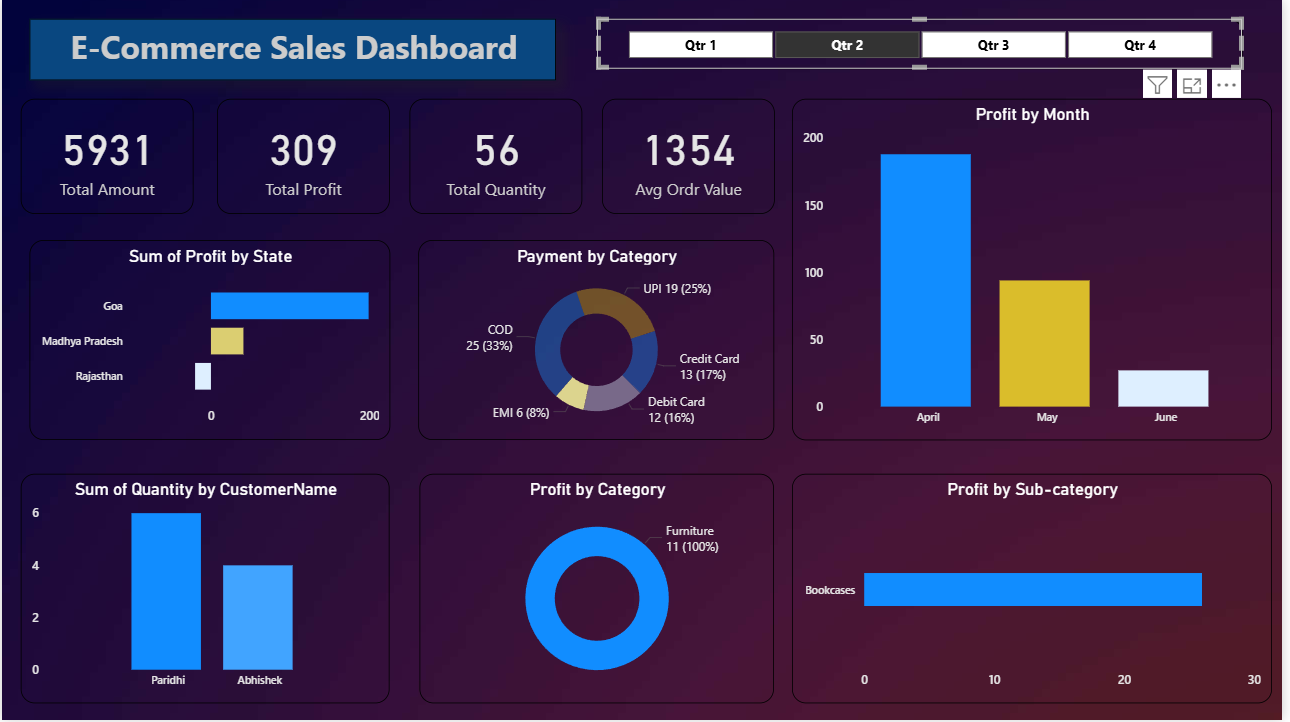

The dashboard page shown, as its layout file describes it:
{"tool":"powerbi","page":{"name":"Page 1","canvas":[1280,720],"ordinal":0},"visuals":[{"type":"textbox","box":[27.4,19,526.2,61.9],"z":0},{"type":"columnChart","title":"Profit by Month","fields":{"Category":["Orders.Order Date.Variation.Date Hierarchy.Month"],"Y":["Sum(Details.Profit)"]},"box":[790.5,98.8,479.8,341.7],"z":1000},{"type":"clusteredBarChart","title":"Profit by Sub-category","fields":{"Y":["Sum(Details.Profit)"],"Category":["Details.Sub-Category"]},"box":[790.5,473.8,479.8,229.8],"z":2000},{"type":"donutChart","title":"Profit by Category","fields":{"Category":["Details.Category"],"Y":["Sum(Details.Quantity)"]},"box":[417.9,473.8,354.8,229.8],"z":2001},{"type":"donutChart","title":"Payment by Category","fields":{"Y":["CountNonNull(Details.Category)"],"Category":["Details.PaymentMode"]},"box":[416.7,240.5,356,200],"z":2002},{"type":"card","fields":{"Values":["Sum(Details.Amount)"]},"box":[19,98.8,172.6,115.5],"z":2003},{"type":"card","fields":{"Values":["Sum(Details.Profit)"]},"box":[215.5,98.8,172.6,115.5],"z":2004},{"type":"card","fields":{"Values":["Sum(Details.Quantity)"]},"box":[407.1,98.8,172.6,115.5],"z":2005},{"type":"card","fields":{"Values":["Sum(Details.Avg Ordr Value)"]},"box":[600,98.8,172.6,115.5],"z":2006},{"type":"barChart","fields":{"Category":["Orders.State"],"Y":["Sum(Details.Profit)"]},"box":[27.4,240.5,360.7,200],"z":2007},{"type":"columnChart","fields":{"Y":["Sum(Details.Quantity)"],"Category":["Orders.CustomerName"]},"box":[19,473.8,369,229.8],"z":2008},{"type":"slicer","fields":{"Values":["Orders.Order Date.Variation.Date Hierarchy.Quarter"]},"box":[595.2,19,645.2,50],"z":2009}]}

Visuals, with their boxes in screenshot pixels (x1, y1, x2, y2), scaled from the page's 1280x720 canvas onto the 1290x722 screenshot:
textbox: l=28, t=19, r=558, b=81
"Profit by Month" columnChart: l=797, t=99, r=1280, b=442
"Profit by Sub-category" clusteredBarChart: l=797, t=475, r=1280, b=706
"Profit by Category" donutChart: l=421, t=475, r=779, b=706
"Payment by Category" donutChart: l=420, t=241, r=779, b=442
card - Sum(Details.Amount): l=19, t=99, r=193, b=215
card - Sum(Details.Profit): l=217, t=99, r=391, b=215
card - Sum(Details.Quantity): l=410, t=99, r=584, b=215
card - Sum(Details.Avg Ordr Value): l=605, t=99, r=779, b=215
barChart - Orders.State x Sum(Details.Profit): l=28, t=241, r=391, b=442
columnChart - Sum(Details.Quantity) x Orders.CustomerName: l=19, t=475, r=391, b=706
slicer - Orders.Order Date.Variation.Date Hierarchy.Quarter: l=600, t=19, r=1250, b=69
